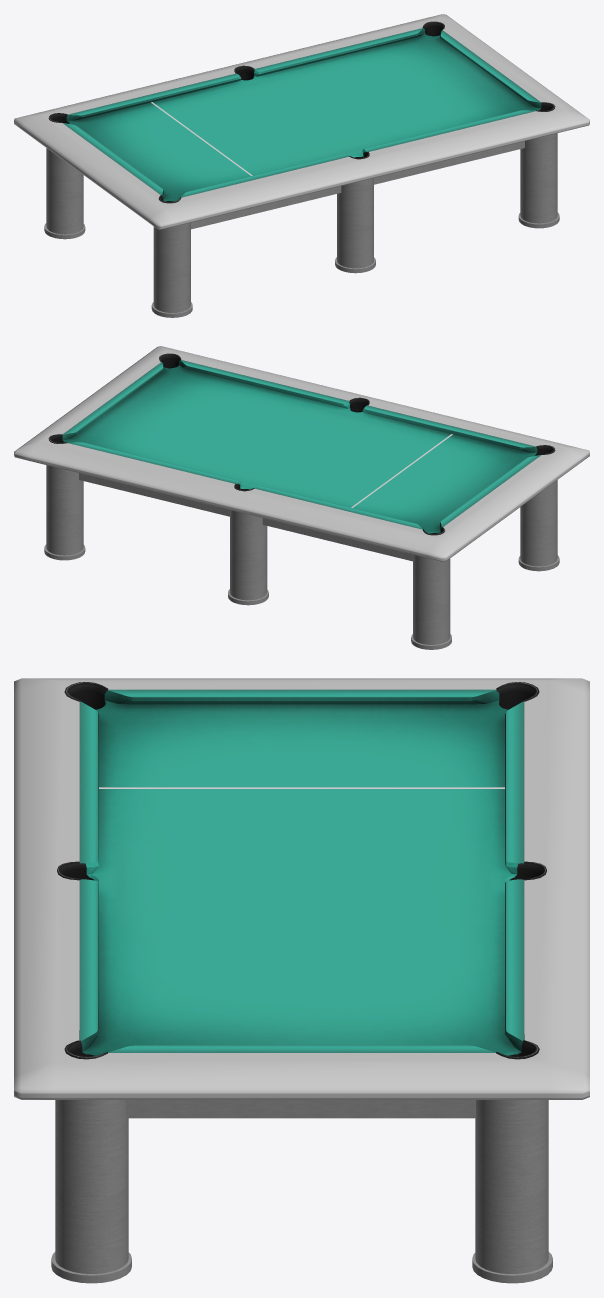
The model's file is TournamentTable.obj.
3 views of the same model, one above another, from view 1: azimuth 30°, elevation 25°; view 2: azimuth 150°, elevation 25°; view 3: azimuth 270°, elevation 25° (orthographic). The views are drawn at different scales.
Parts seen in each view (by area): view 1: Layer_0; view 2: Layer_0; view 3: Layer_0.
Part boxes in pixels (x1,y1,x2,y2): Layer_0: (14, 14, 589, 317); Layer_0: (14, 346, 589, 649); Layer_0: (14, 678, 589, 1283).
Bounding box in the file's own units: 3.39 × 0.8469 × 2.
